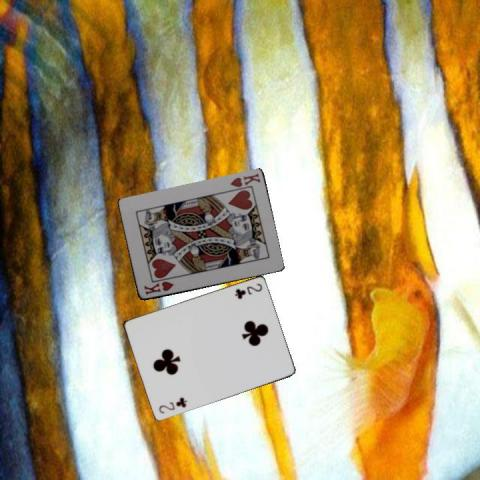2c: (155, 395, 189, 415), (232, 280, 263, 300)
Kh: (140, 278, 174, 297), (227, 170, 261, 188)
